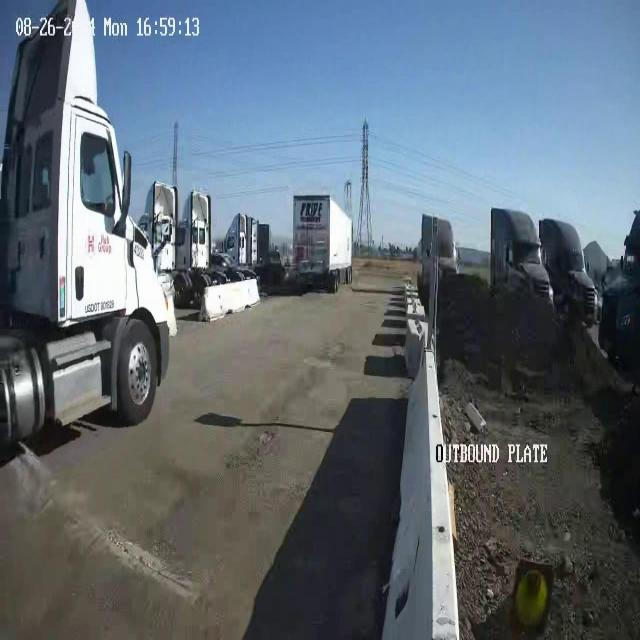TRUCK_IN: (1, 1, 170, 458), (292, 190, 358, 301)
